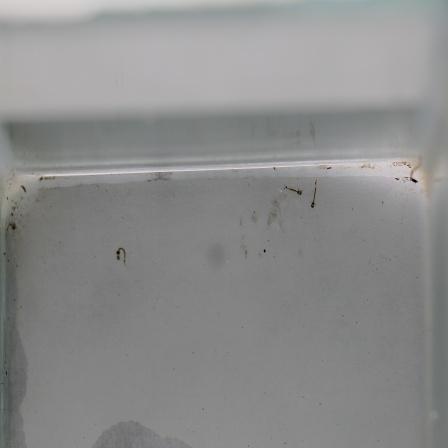Jentik-Nyamuk: (282, 176, 321, 213), (112, 243, 130, 267)
